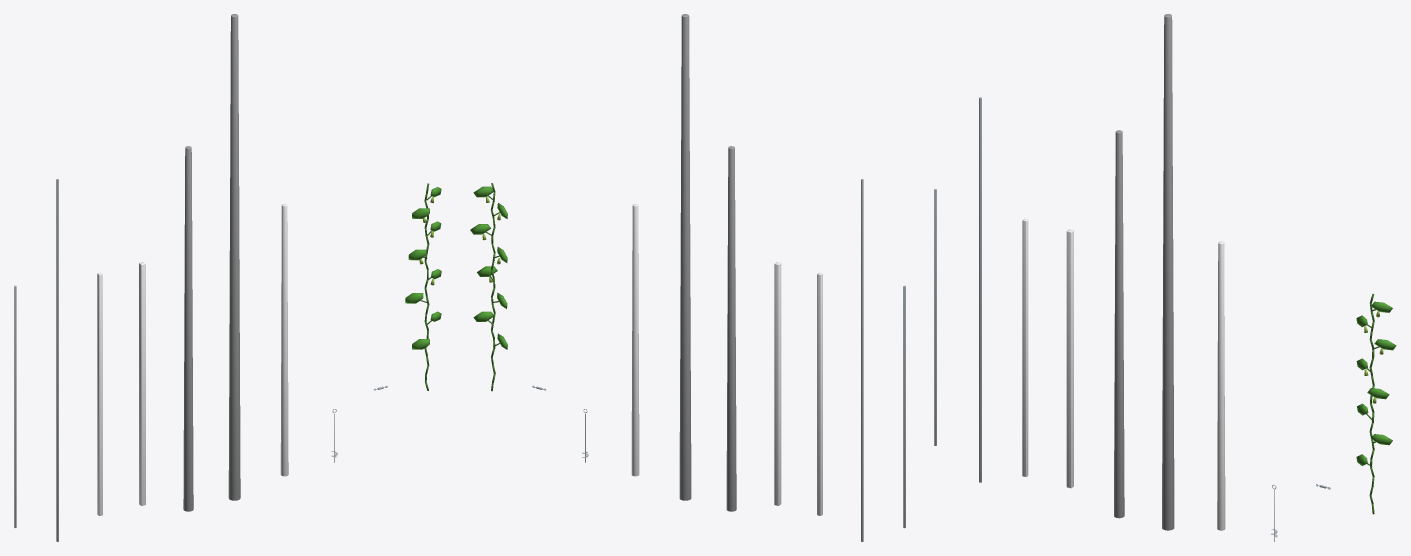
Rendered from hopyard-asset-kit.glb.
The picture shows the model from 3 angles, left to right: view 1: azimuth 30°, elevation 25°; view 2: azimuth 150°, elevation 25°; view 3: azimuth 330°, elevation 25°; orthographic projection. The views are drawn at different scales.
Parts seen in each view (by area): view 1: KR_PCPole_12m, KR_PCPole_9m, US_WoodPole_22ft, KR_WoodPole_120_6m, Hop_Vine_Segment, KR_WoodPole_100_6m, KR_SteelPole_9m, KR_SteelPole_6m; view 2: KR_PCPole_12m, KR_PCPole_9m, US_WoodPole_22ft, KR_WoodPole_120_6m, Hop_Vine_Segment, KR_WoodPole_100_6m, KR_SteelPole_9m, KR_SteelPole_6m; view 3: KR_PCPole_12m, KR_PCPole_9m, US_WoodPole_22ft, KR_WoodPole_120_6m, Hop_Vine_Segment, KR_WoodPole_100_6m, KR_SteelPole_9m, KR_SteelPole_6m.
Part boxes in pixels (x1=…): KR_PCPole_12m: x1=228, y1=14, x2=240, y2=500; KR_PCPole_9m: x1=183, y1=146, x2=193, y2=511; US_WoodPole_22ft: x1=280, y1=204, x2=288, y2=476; KR_WoodPole_120_6m: x1=139, y1=262, x2=145, y2=505; Hop_Vine_Segment: x1=405, y1=183, x2=441, y2=390; KR_WoodPole_100_6m: x1=97, y1=272, x2=102, y2=515; KR_SteelPole_9m: x1=56, y1=179, x2=58, y2=541; KR_SteelPole_6m: x1=14, y1=285, x2=16, y2=527; KR_PCPole_12m: x1=679, y1=14, x2=691, y2=500; KR_PCPole_9m: x1=726, y1=146, x2=736, y2=511; US_WoodPole_22ft: x1=631, y1=204, x2=639, y2=476; KR_WoodPole_120_6m: x1=774, y1=262, x2=781, y2=505; Hop_Vine_Segment: x1=470, y1=183, x2=507, y2=391; KR_WoodPole_100_6m: x1=817, y1=272, x2=822, y2=515; KR_SteelPole_9m: x1=861, y1=179, x2=863, y2=541; KR_SteelPole_6m: x1=903, y1=285, x2=905, y2=528; KR_PCPole_12m: x1=1162, y1=14, x2=1174, y2=530; KR_PCPole_9m: x1=1114, y1=130, x2=1124, y2=518; US_WoodPole_22ft: x1=1217, y1=241, x2=1225, y2=530; KR_WoodPole_120_6m: x1=1066, y1=229, x2=1073, y2=488; Hop_Vine_Segment: x1=1356, y1=294, x2=1396, y2=514; KR_WoodPole_100_6m: x1=1022, y1=218, x2=1028, y2=476; KR_SteelPole_9m: x1=979, y1=97, x2=981, y2=482; KR_SteelPole_6m: x1=934, y1=189, x2=936, y2=445.
Size of the model in its own units: 11.22 by 12 by 0.4482.
